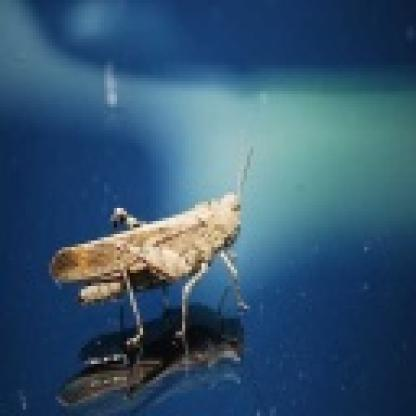grasshopper: (46, 177, 248, 365)
